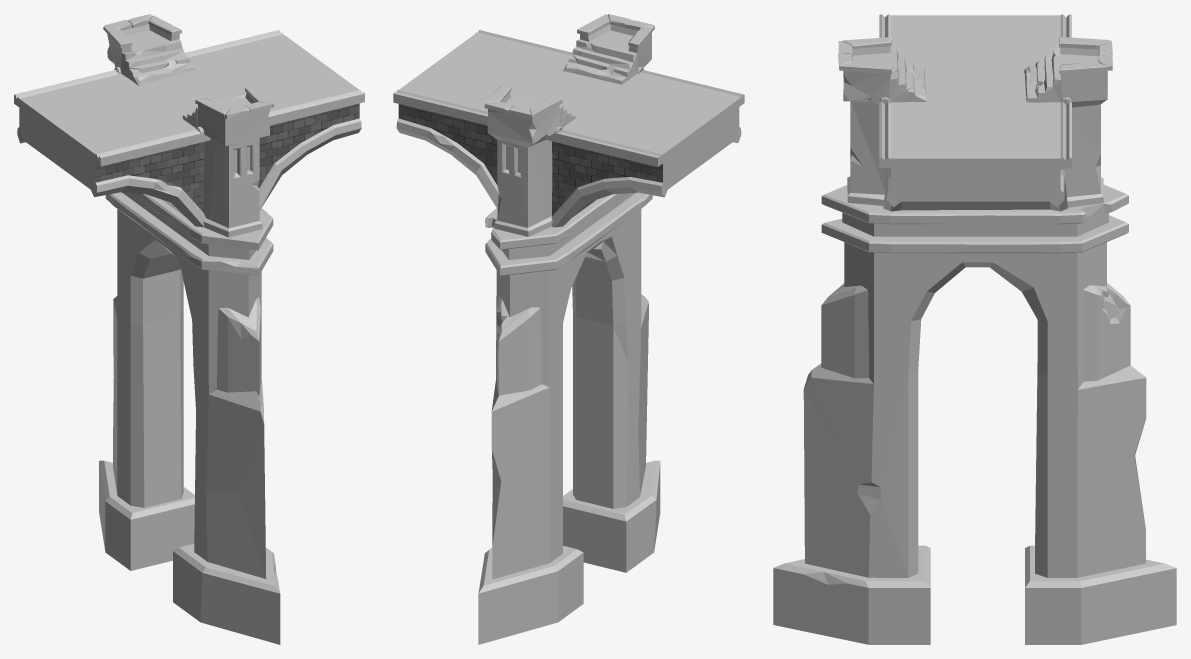
The model's file is SM_Bld_Bridge_Base_01.fbx.
The picture shows the model from 3 angles, left to right: view 1: azimuth 30°, elevation 25°; view 2: azimuth 150°, elevation 25°; view 3: azimuth 270°, elevation 25°; orthographic projection. The views are drawn at different scales.
Visible parts, largest first — view 1: SM_Bld_Bridge_Base_01; view 2: SM_Bld_Bridge_Base_01; view 3: SM_Bld_Bridge_Base_01.
Part boxes in pixels (<box>): SM_Bld_Bridge_Base_01: <box>14,14,364,644</box>; SM_Bld_Bridge_Base_01: <box>393,14,744,644</box>; SM_Bld_Bridge_Base_01: <box>773,14,1176,644</box>.
Size of the model in its own units: 1002 by 1858 by 1190.
